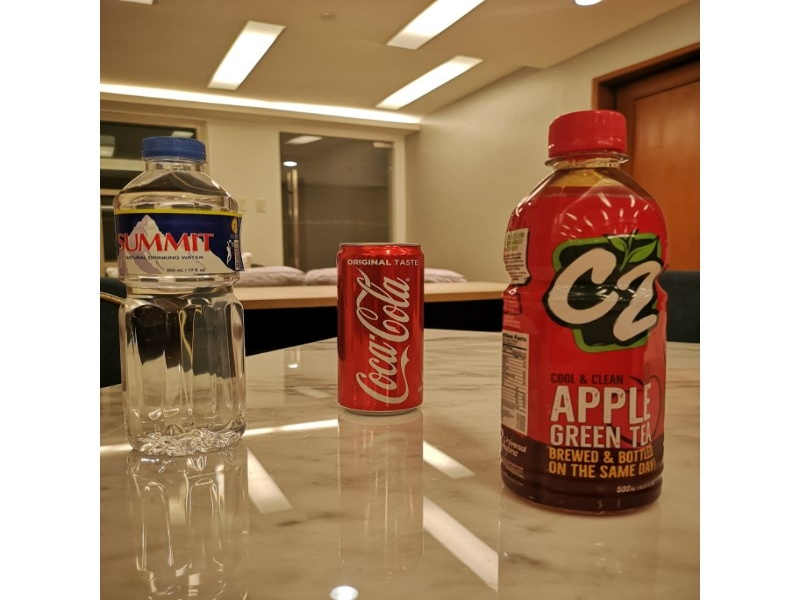PET #1: (495, 102, 672, 524), (112, 131, 249, 462)
